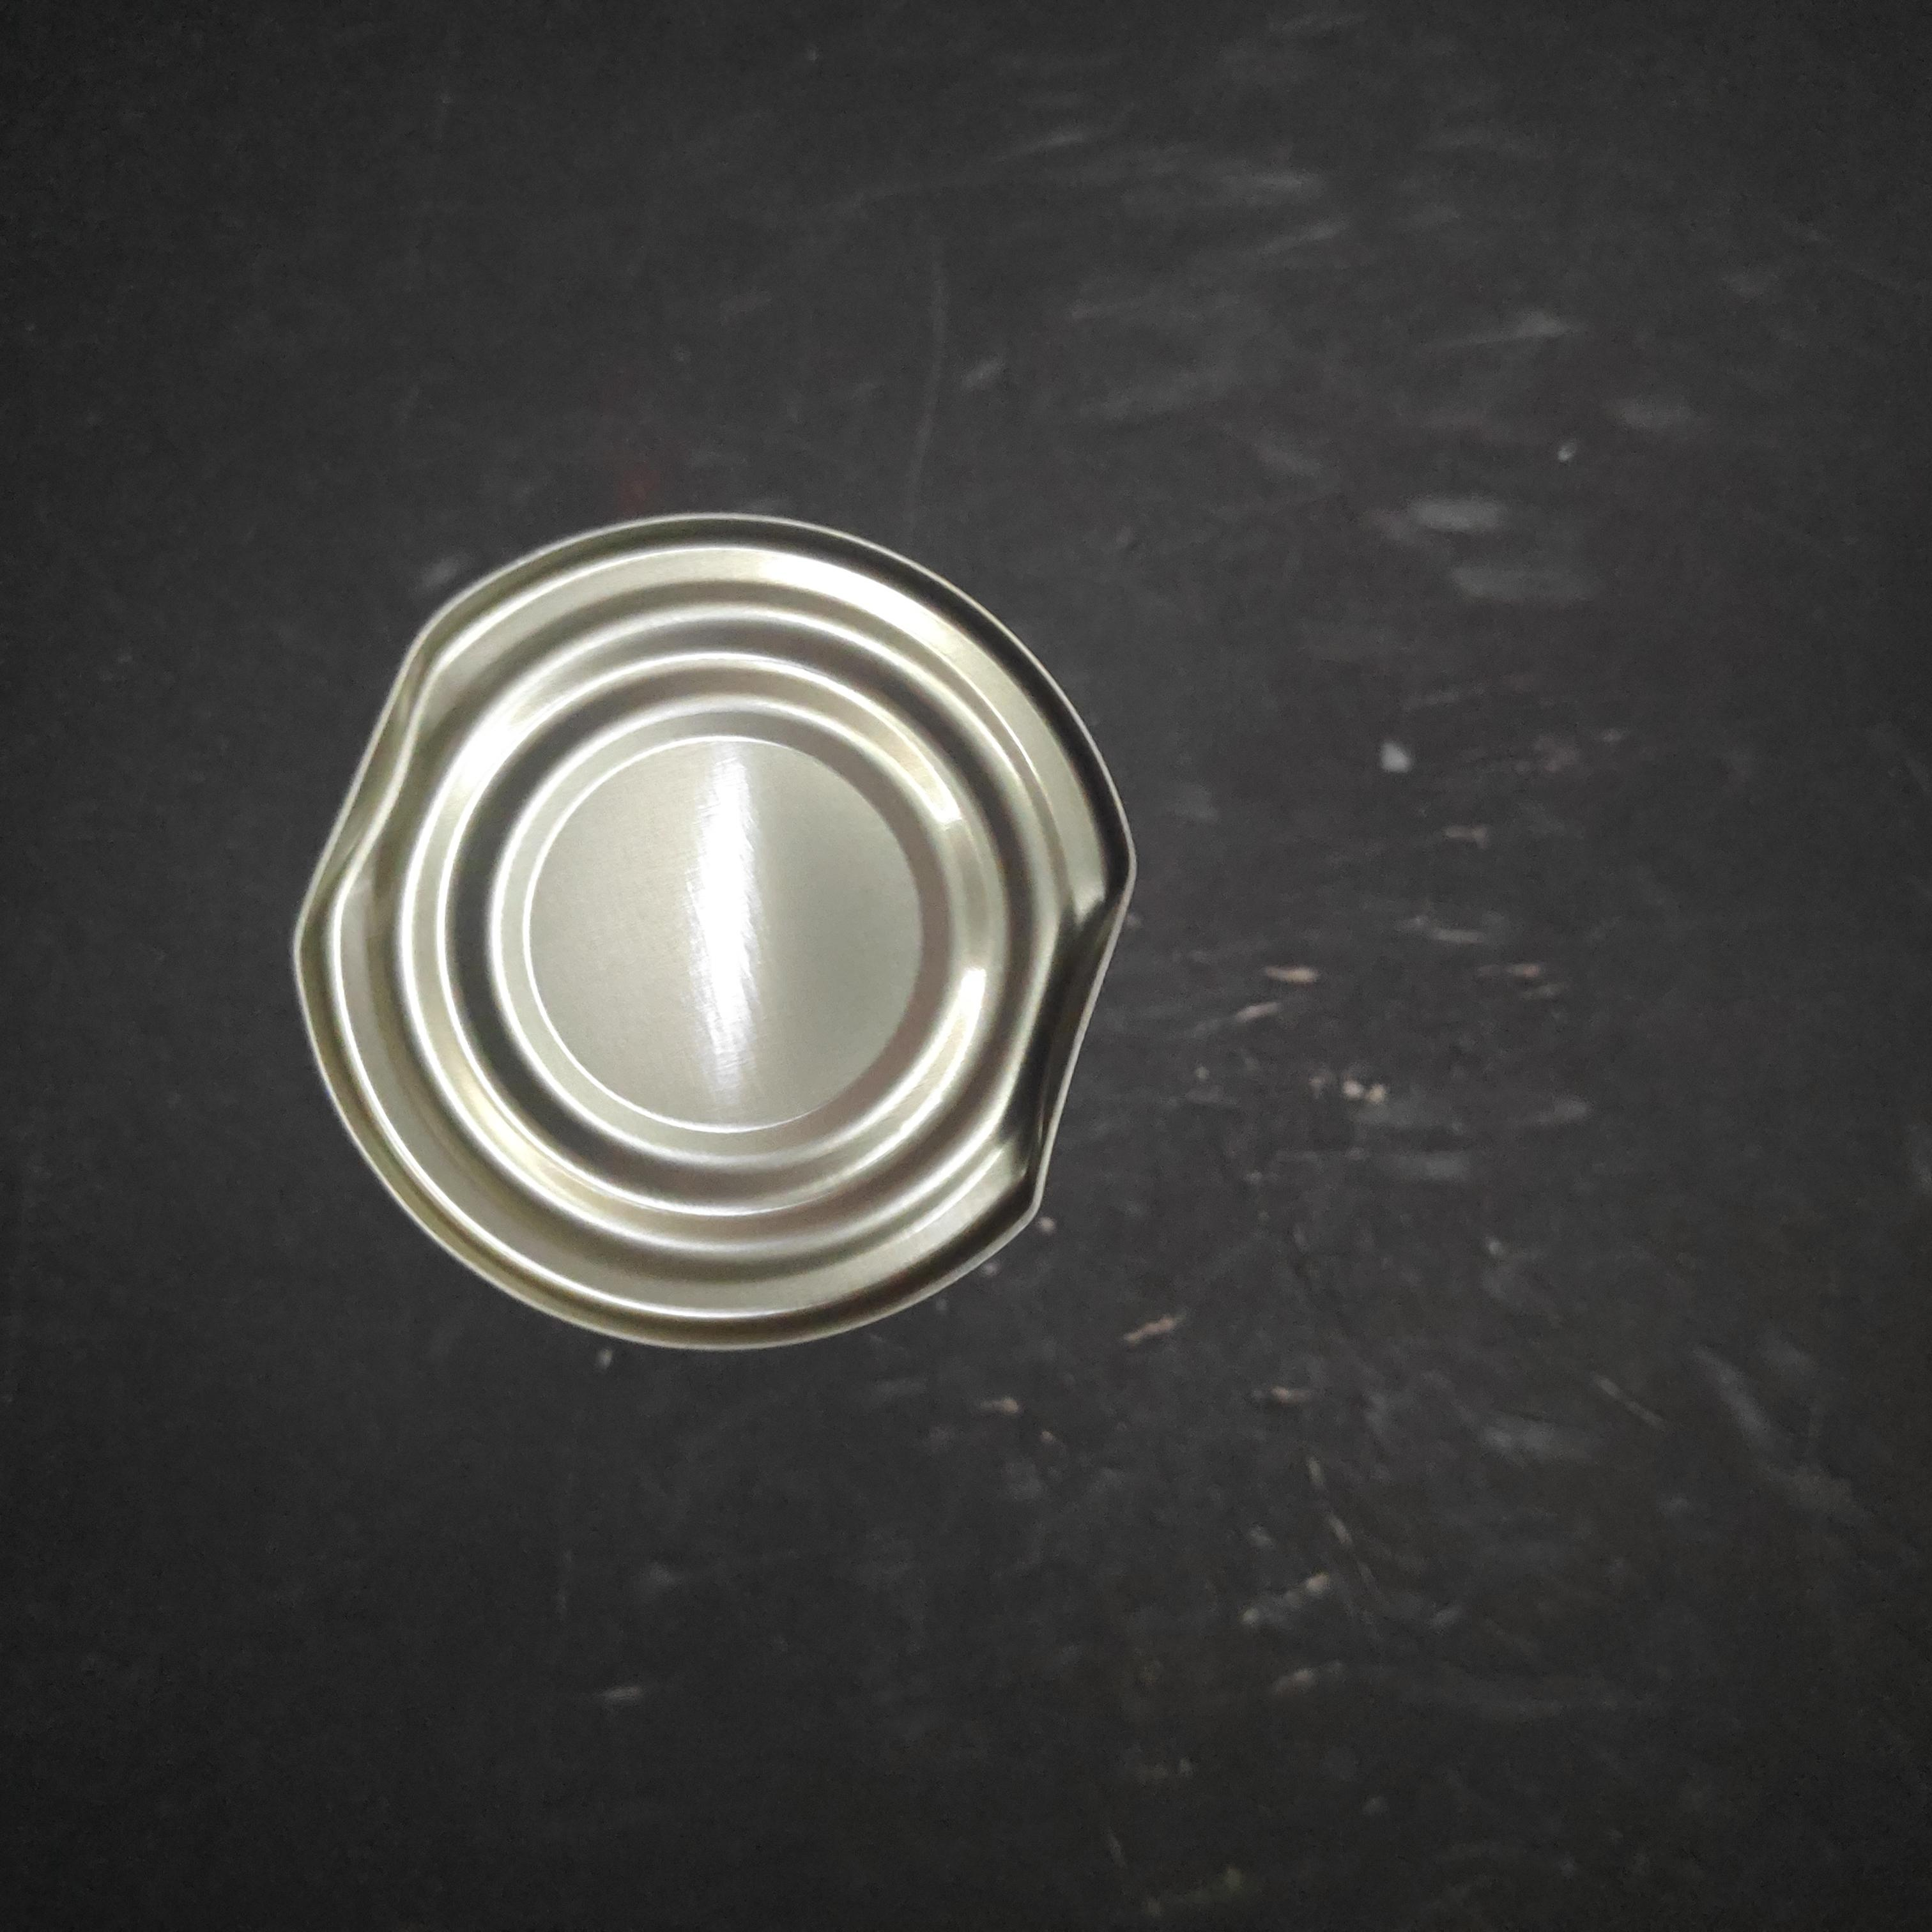Minor Defect: (781, 563, 1648, 1442)
